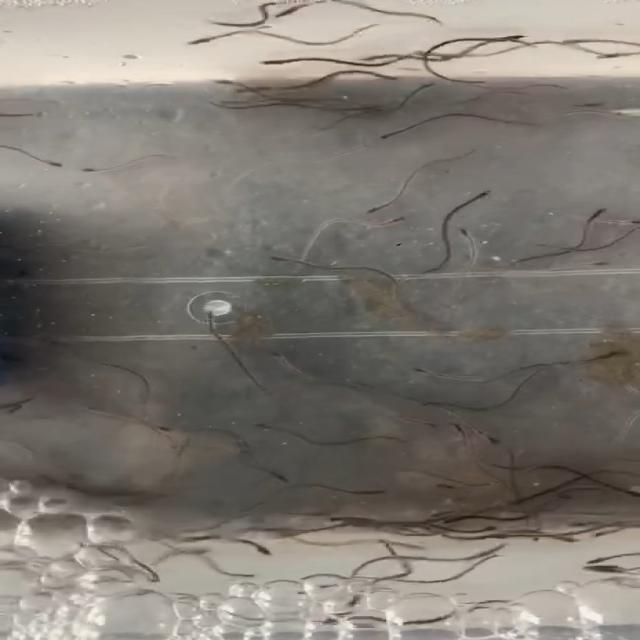active_glass_eel: (367, 126, 425, 143), (405, 360, 439, 382), (198, 306, 230, 329), (566, 98, 614, 113), (604, 503, 640, 523), (428, 476, 476, 491), (602, 482, 640, 500), (544, 531, 586, 547), (448, 424, 481, 444), (234, 541, 270, 559), (580, 204, 620, 220), (414, 507, 454, 523), (577, 564, 630, 576), (592, 47, 630, 63), (464, 186, 494, 206), (361, 486, 392, 505), (266, 467, 294, 488), (271, 8, 313, 22), (378, 210, 412, 227), (445, 226, 479, 243), (594, 550, 628, 566), (394, 537, 428, 553), (264, 348, 294, 366), (237, 82, 273, 97), (198, 77, 242, 89), (145, 420, 174, 438), (496, 30, 536, 43), (356, 199, 388, 215), (22, 155, 58, 169), (586, 256, 616, 272), (588, 526, 622, 540), (264, 55, 303, 67), (472, 426, 498, 444), (184, 34, 214, 49), (274, 252, 306, 266), (561, 35, 588, 50), (230, 568, 266, 579), (418, 77, 442, 93), (417, 418, 439, 434), (617, 214, 639, 230), (73, 165, 99, 178)
